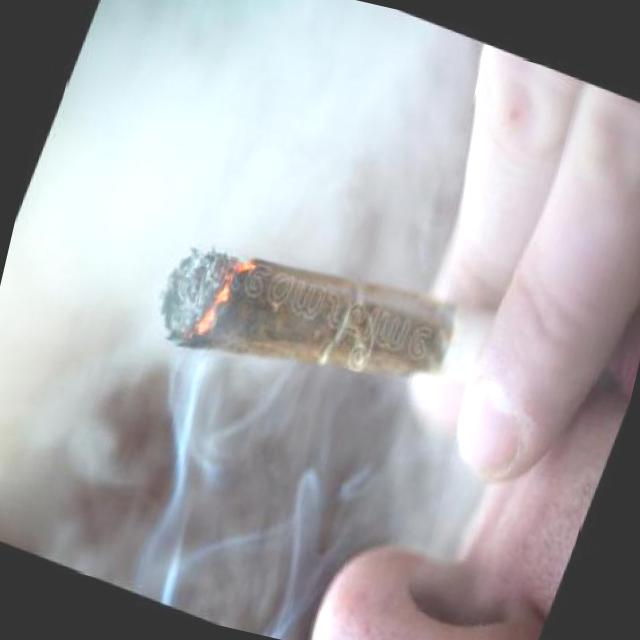smoke: (129, 185, 512, 464)
